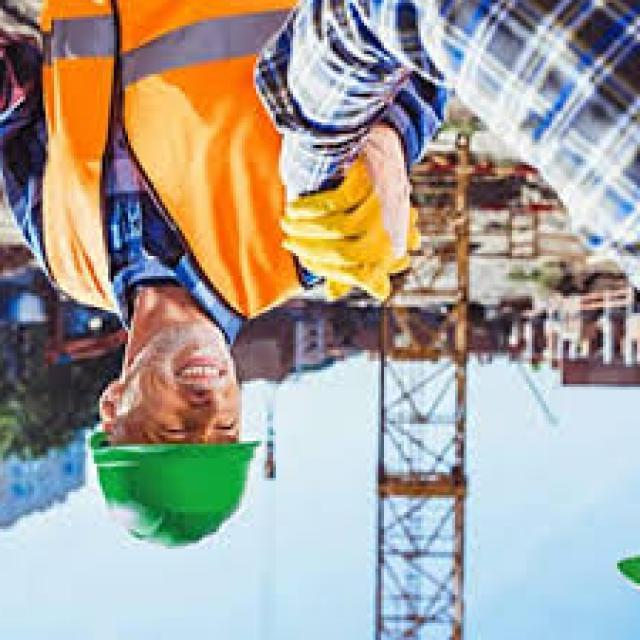safetyhelmet: (61, 342, 263, 560)
